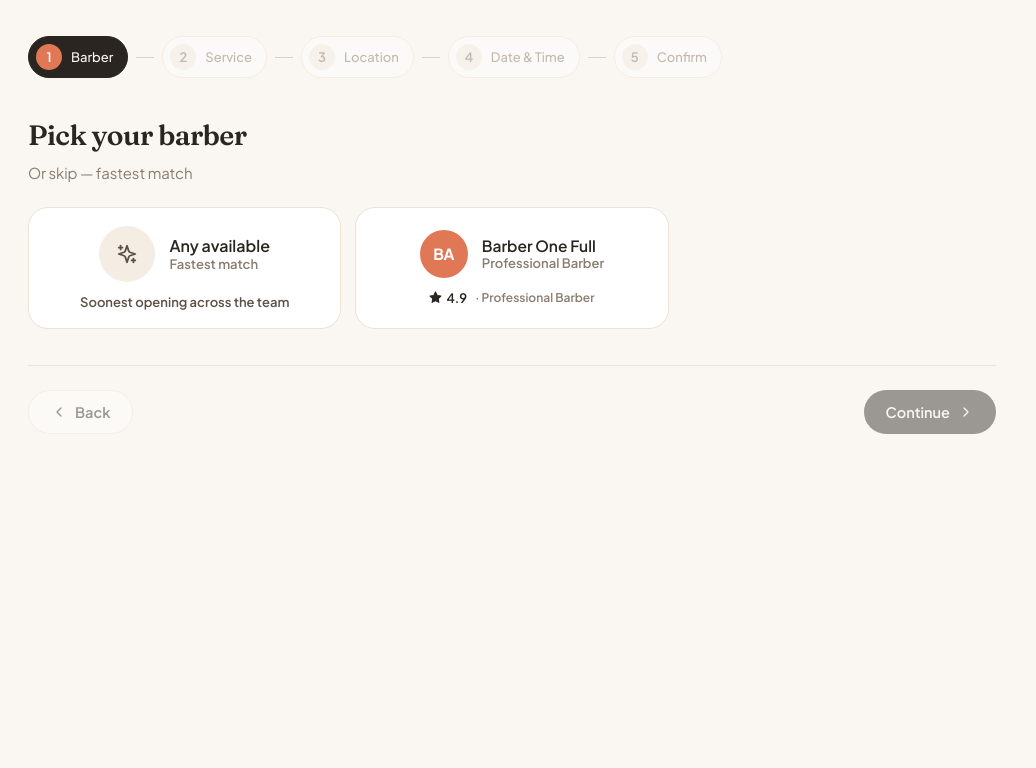
BookingFlow Component › shows no-slots message when availability is empty
The image size is (1036, 768).
Click the text "Barber One Full": (543, 246) top-left (482, 236), bottom-right (604, 255)
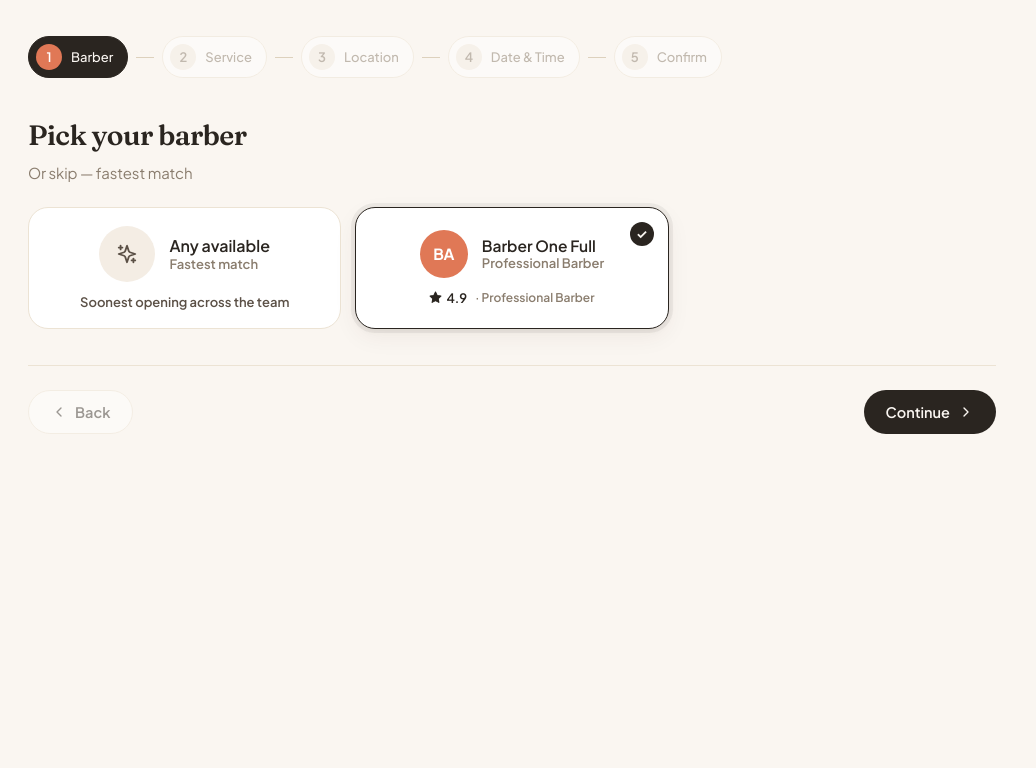
Click the button "Continue": (930, 412) top-left (864, 390), bottom-right (996, 434)
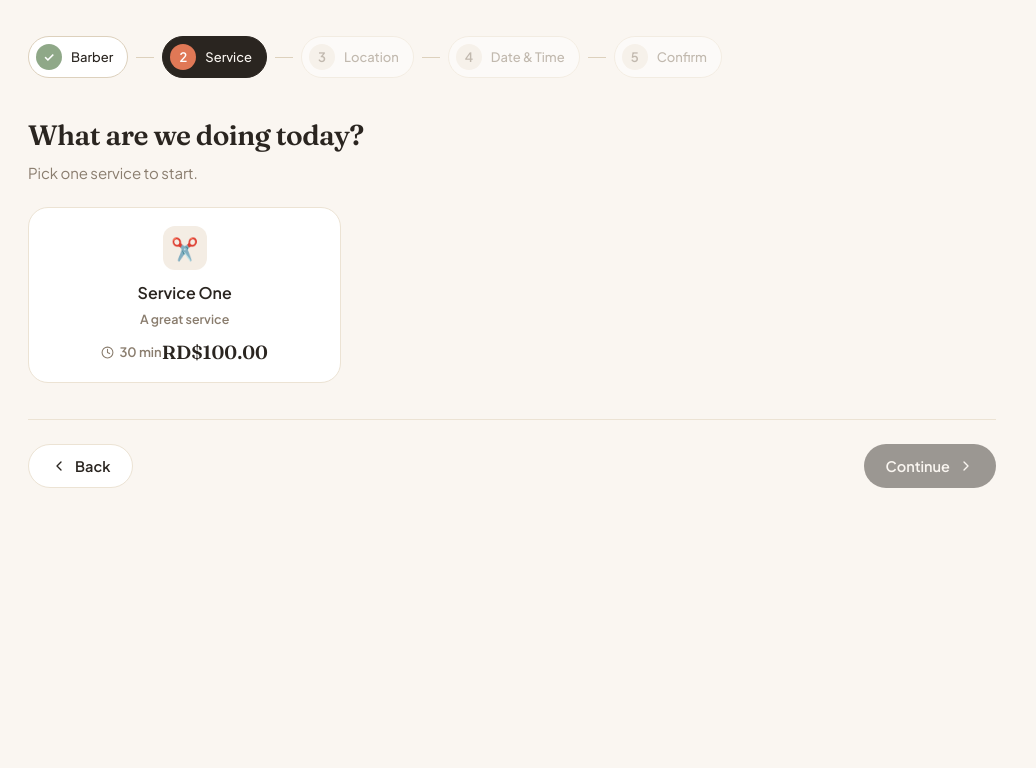
Expected: the text "Service One" is shown
Click the text "Service One": (185, 292) top-left (138, 282), bottom-right (232, 302)
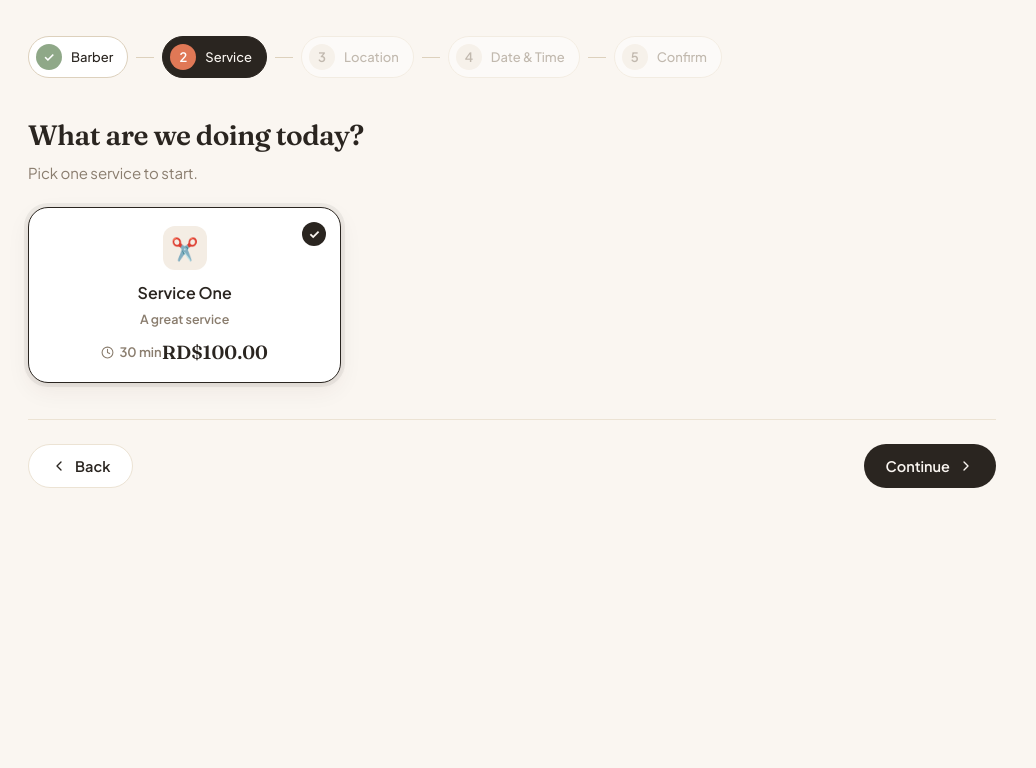
Click the button "Continue": (930, 466) top-left (864, 444), bottom-right (996, 488)
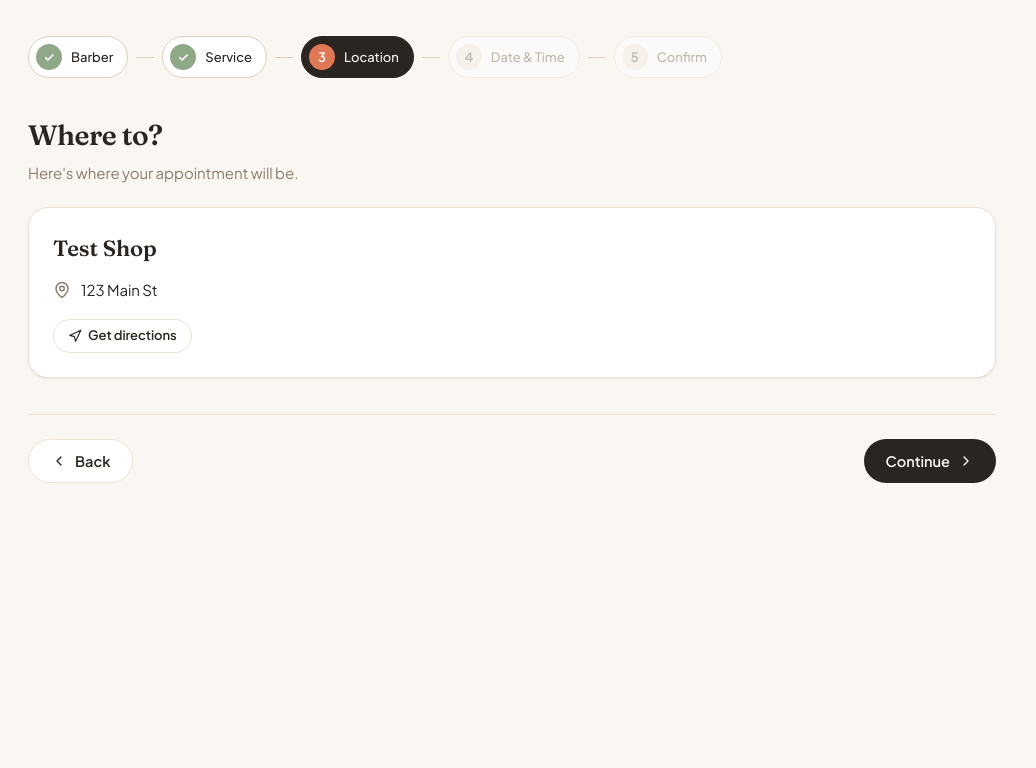
Expected: the heading "Where to?" is shown, top-left (28, 118), bottom-right (162, 152)
// Wait for Location step, then advance past it
Click the button "Continue": (930, 461) top-left (864, 439), bottom-right (996, 483)
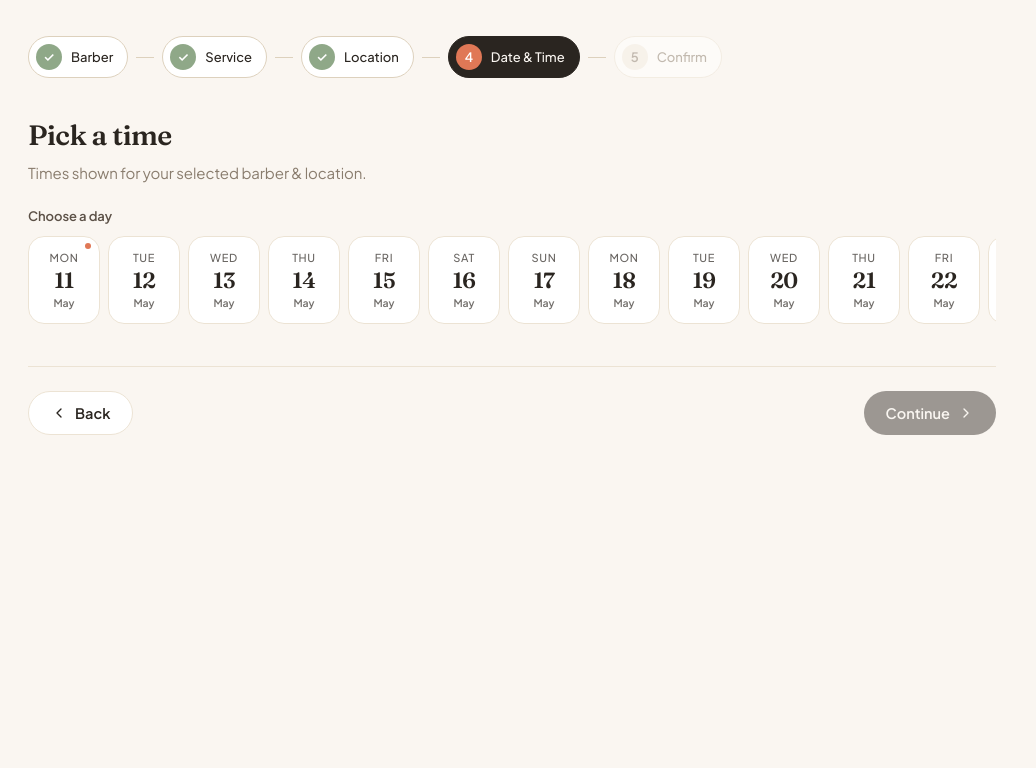
Expected: the element with test id "day-strip" is shown, top-left (28, 236), bottom-right (996, 330)
Click the button "Mon 11 May": (64, 280) top-left (28, 236), bottom-right (100, 324)
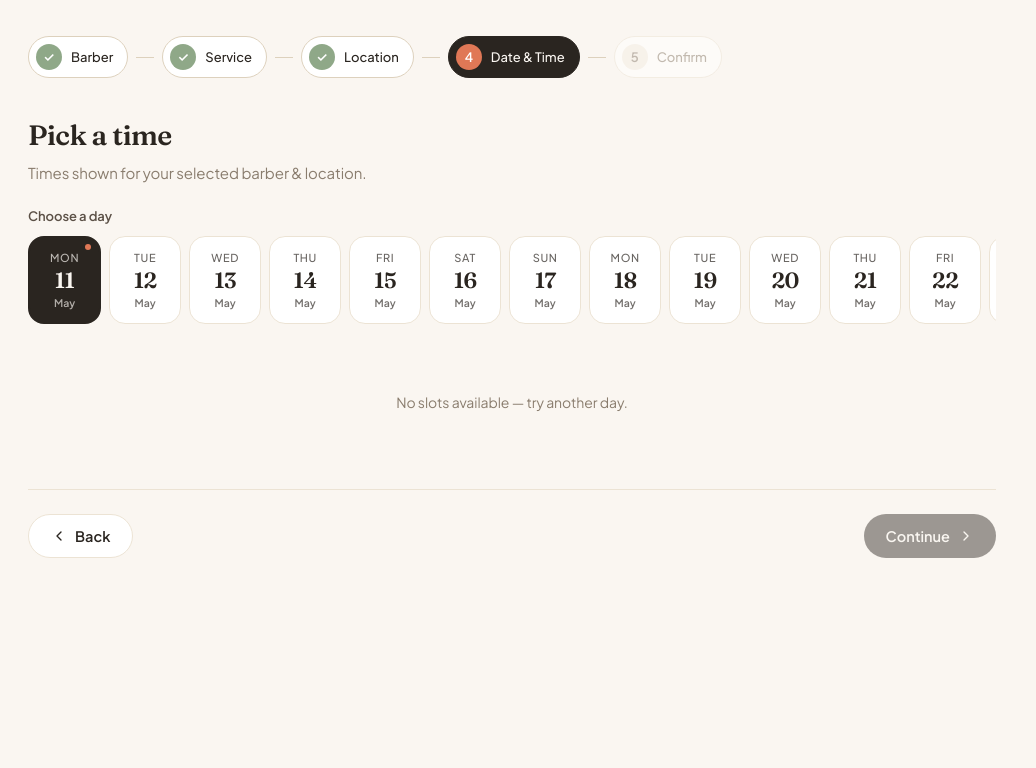
Expected: the text "No slots available — try another day." is shown, top-left (396, 393), bottom-right (628, 411)
